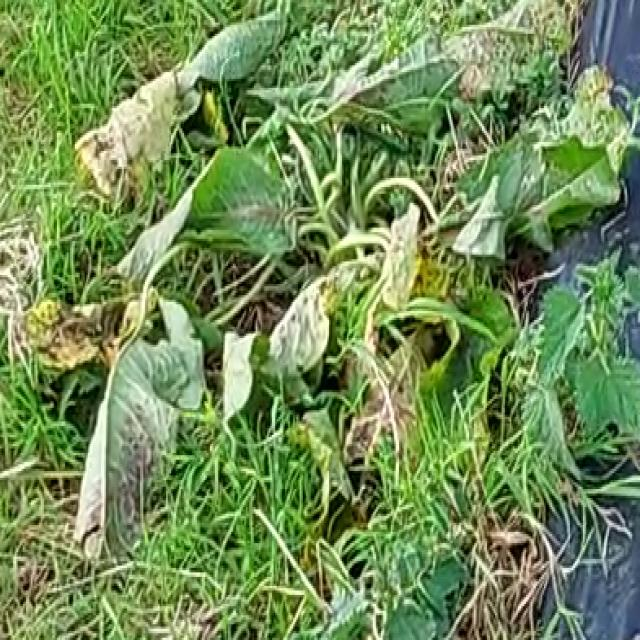organic waste: (45, 0, 640, 532)
